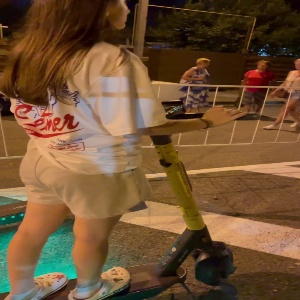human on a scooter: (1, 1, 267, 300)
